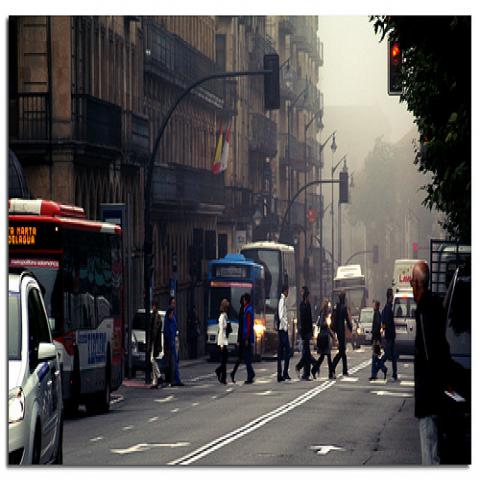bus: (9, 198, 125, 413), (239, 239, 298, 352), (207, 254, 267, 357), (332, 275, 369, 333)
car: (8, 273, 64, 470), (443, 261, 472, 464), (123, 308, 180, 378), (393, 292, 417, 359), (356, 308, 374, 346)
truck: (429, 238, 472, 306), (392, 256, 428, 298)
